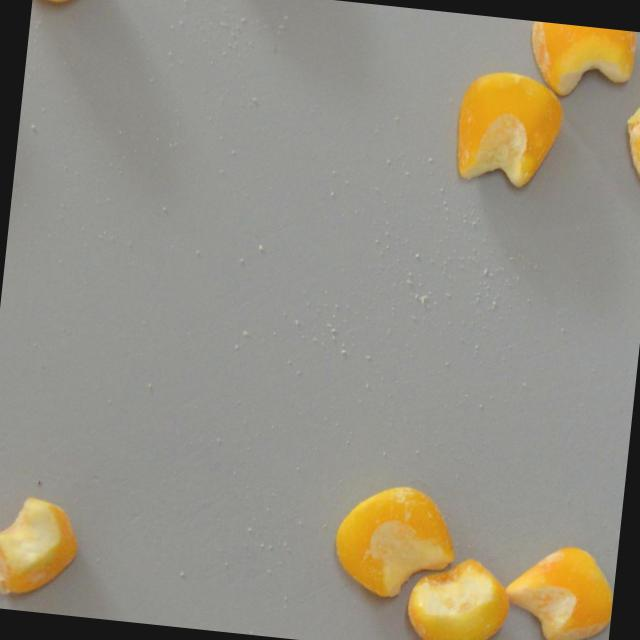pelicula: (330, 480, 460, 603), (452, 69, 569, 191), (503, 540, 617, 640), (405, 553, 517, 640), (526, 21, 640, 103), (0, 494, 84, 602), (617, 83, 640, 204)
